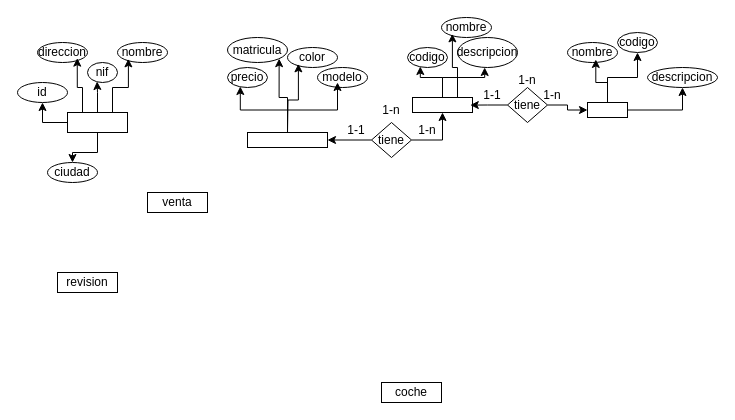
Image size: 735x420. Some labels were removed from this diagram. The shapes that lost their labels are listed below. From the top down, each one's centre as x and y in pixels, then its label:
(97,122): cliente
(442,104): categoria
(607,110): marca
(287,140): registro_coche
